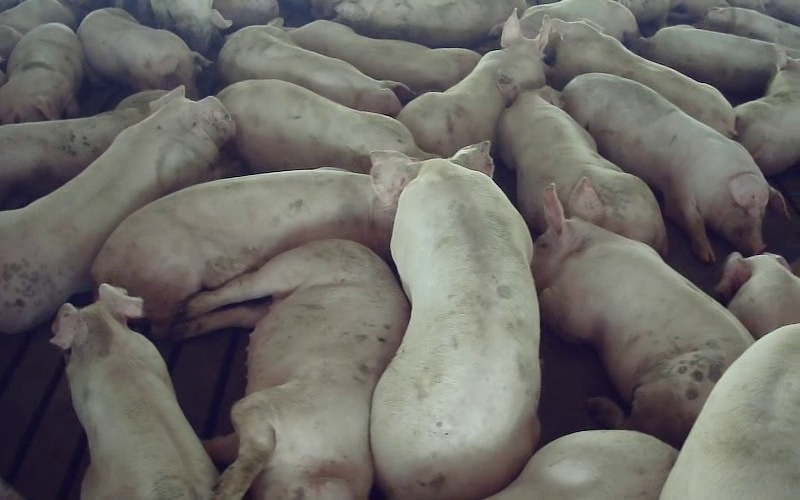pig: (178, 240, 409, 499), (371, 143, 539, 499), (532, 177, 753, 444), (0, 87, 234, 331), (91, 169, 392, 324), (562, 73, 785, 260), (52, 284, 217, 499), (661, 324, 799, 499), (544, 20, 734, 137), (397, 11, 549, 157), (217, 79, 432, 173), (0, 92, 164, 208), (218, 25, 411, 115), (288, 20, 480, 93), (77, 8, 209, 98), (638, 25, 786, 96), (335, 0, 525, 47), (0, 23, 83, 123), (735, 53, 799, 175)
